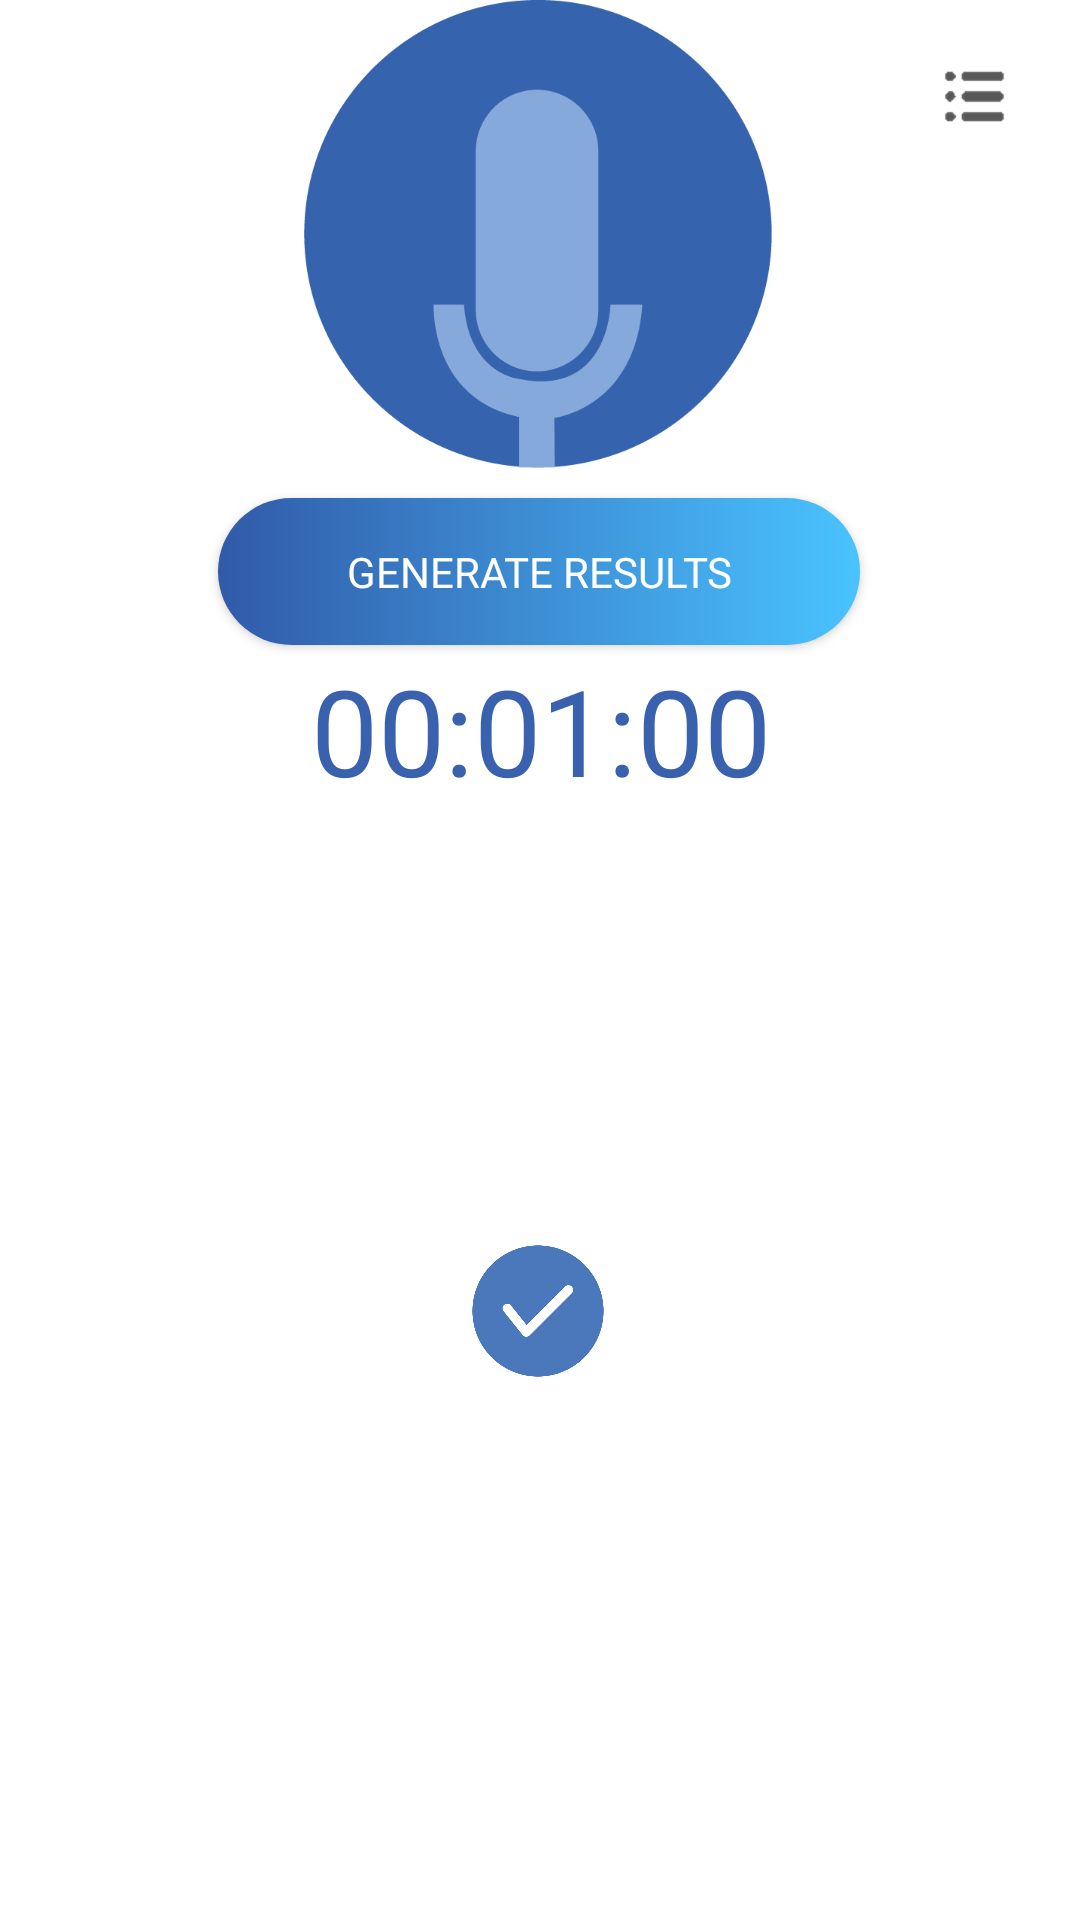

Icon click points for this 1080 × 1920 phone screenshot, format [x,y]:
recorder list: [974,96]
